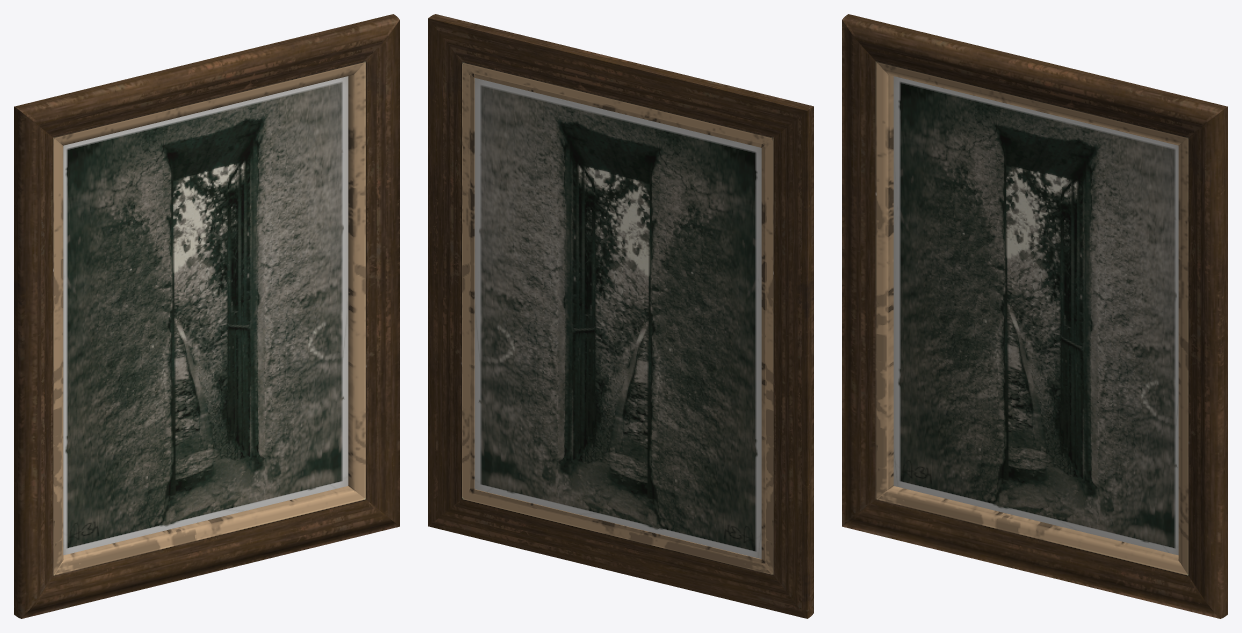
Rendered from Picture_4_Largest_Framed.FBX.
The picture shows the model from 3 angles, left to right: view 1: azimuth 30°, elevation 25°; view 2: azimuth 150°, elevation 25°; view 3: azimuth 330°, elevation 25°; orthographic projection.
Visible parts, largest first — view 1: Picture_4_Largest_Framed; view 2: Picture_4_Largest_Framed; view 3: Picture_4_Largest_Framed.
Boxes of the visible parts, bbox=[...] form: Picture_4_Largest_Framed: bbox=[14, 14, 399, 618]; Picture_4_Largest_Framed: bbox=[428, 14, 813, 618]; Picture_4_Largest_Framed: bbox=[842, 14, 1227, 618].
Bounding box in the file's own units: 88.09 × 113 × 3.18.
